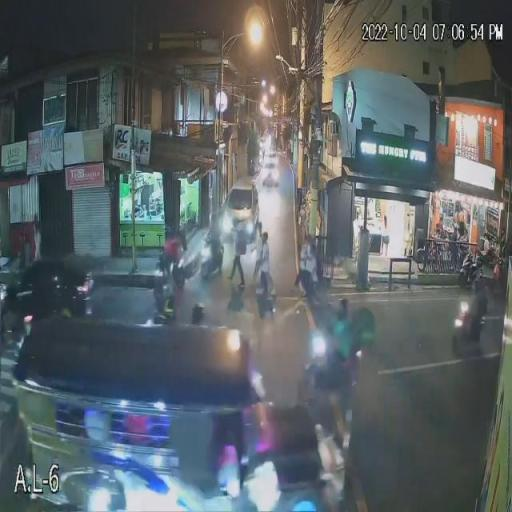helmet: (202, 211, 223, 228), (336, 297, 352, 318), (468, 280, 482, 295), (161, 283, 174, 295)
motorcycle: (302, 316, 361, 405), (450, 288, 492, 361), (195, 238, 224, 284), (253, 263, 276, 320), (457, 247, 487, 288), (480, 256, 504, 290)
rider: (324, 307, 355, 367), (466, 252, 490, 309), (253, 231, 274, 294), (298, 238, 320, 294), (200, 226, 222, 276)
